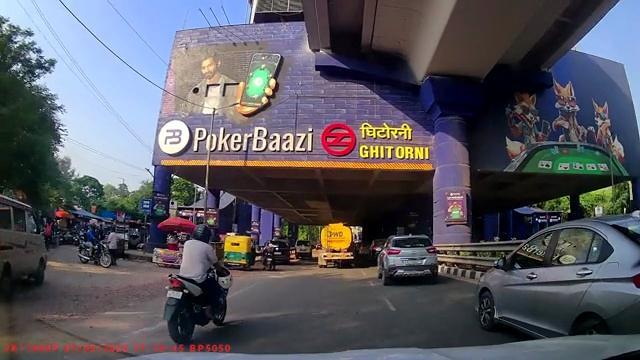motorcycle_with_helmet: (163, 221, 232, 343)
